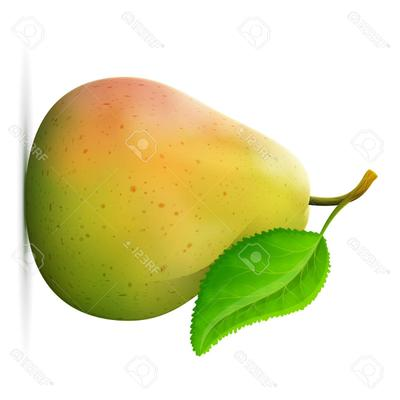pear: (0, 0, 400, 400)
